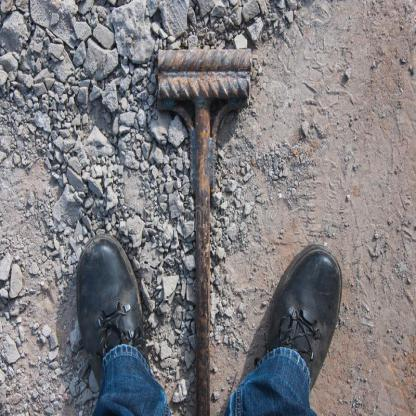bota: (72, 230, 150, 393), (261, 243, 347, 377)
